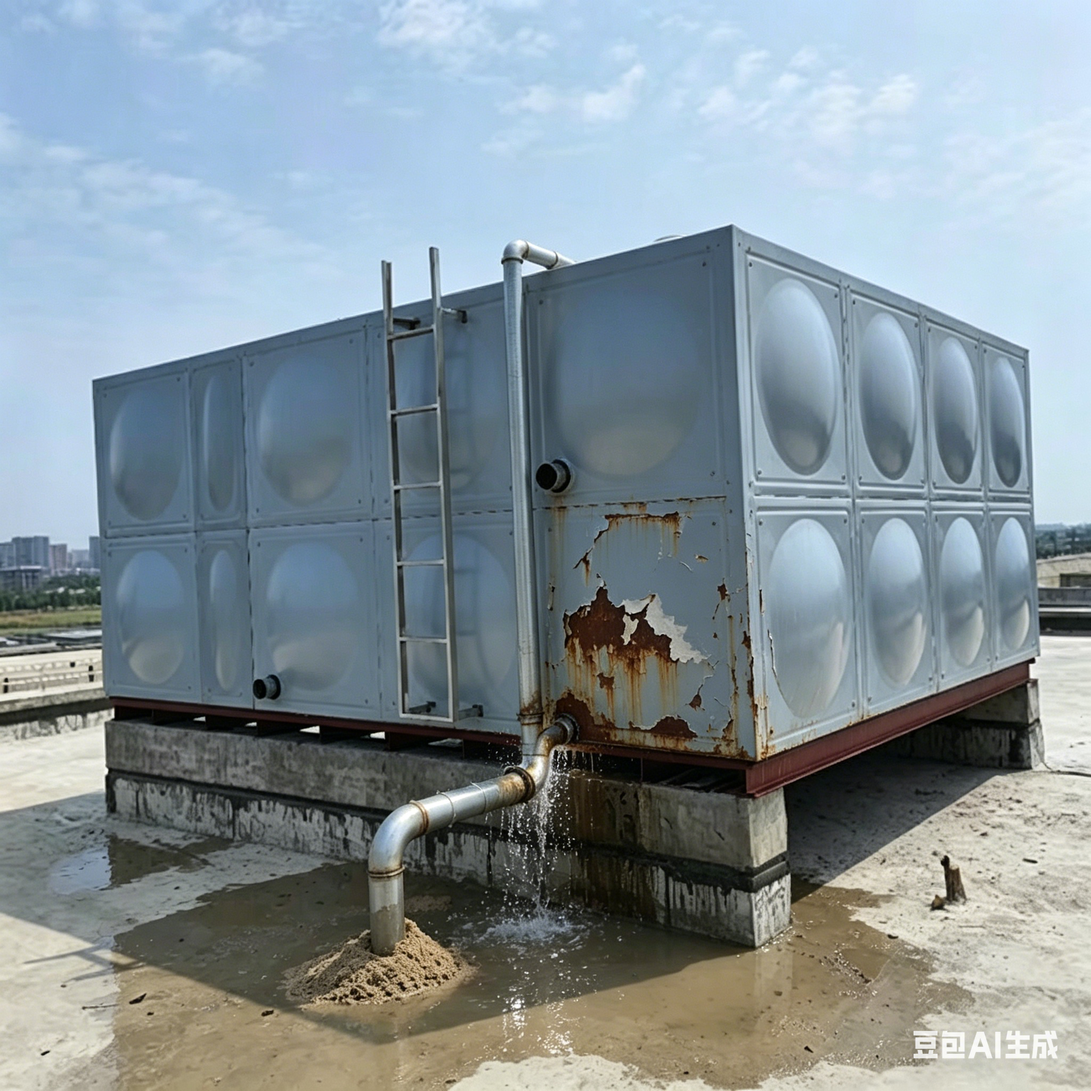Leakage: (146, 915, 921, 1081), (501, 728, 604, 911), (249, 852, 475, 906), (52, 848, 174, 886)
